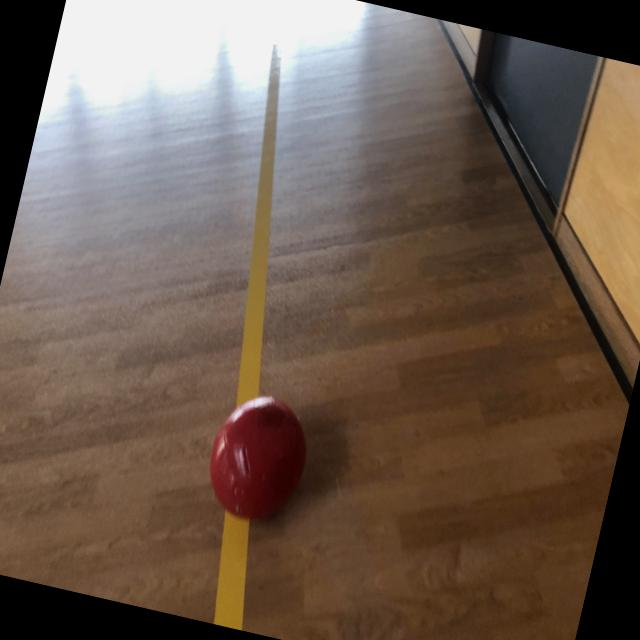red_ball: (198, 386, 317, 532)
